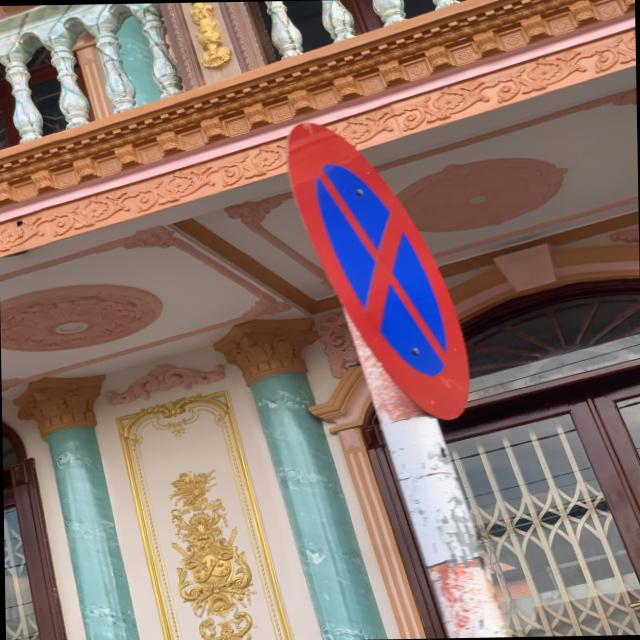Cam_Dung_Va_Dau_Xe: (285, 116, 475, 422)
